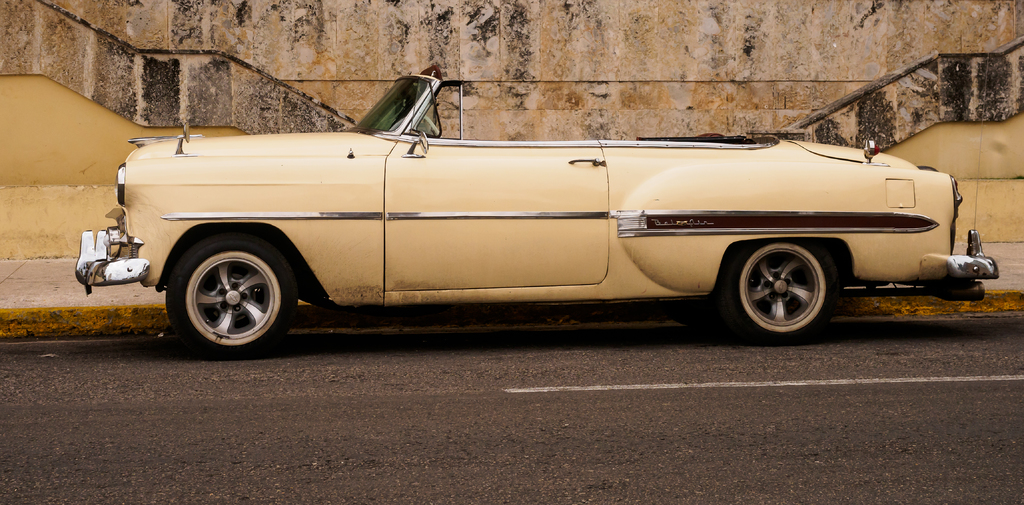Car: (78, 73, 999, 357)
